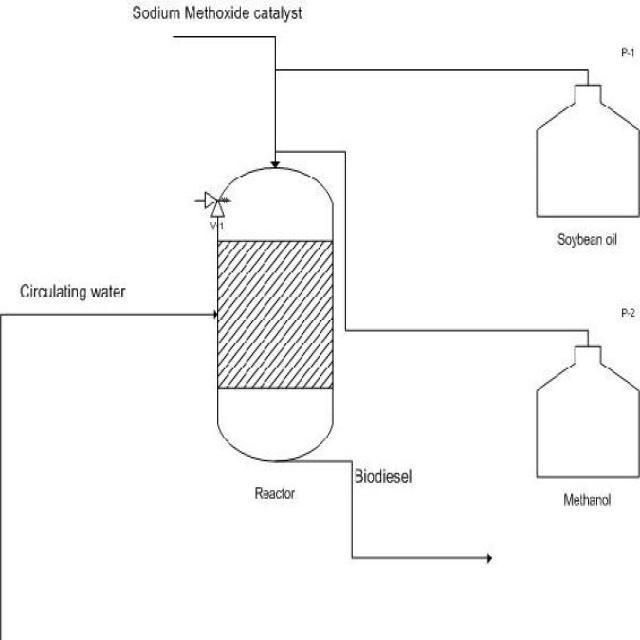PSV: (192, 180, 238, 237)
